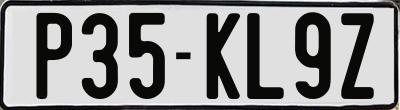3: (79, 12, 116, 102)
5: (127, 13, 168, 99)
9: (294, 12, 333, 105)
K: (207, 13, 241, 100)
L: (245, 13, 288, 105)
P: (36, 11, 72, 103)
Z: (340, 13, 373, 102)
